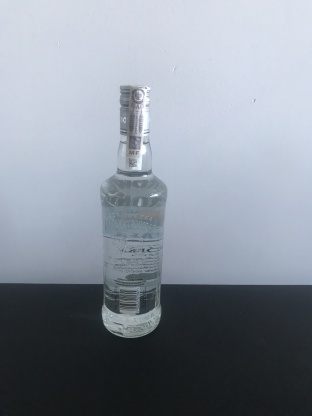nakretka: (116, 79, 153, 138)
